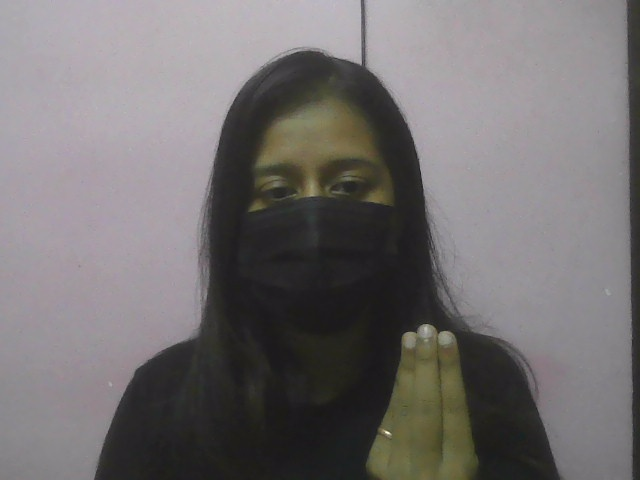Morning: (362, 311, 492, 479)
